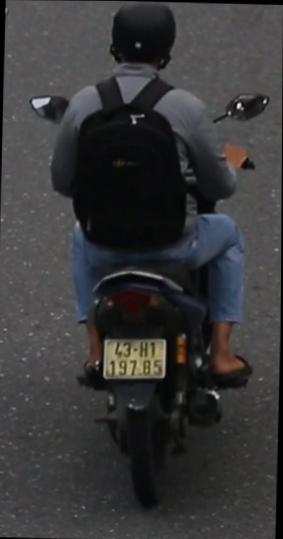LP: (102, 331, 171, 384)
helmet: (102, 1, 179, 85)
